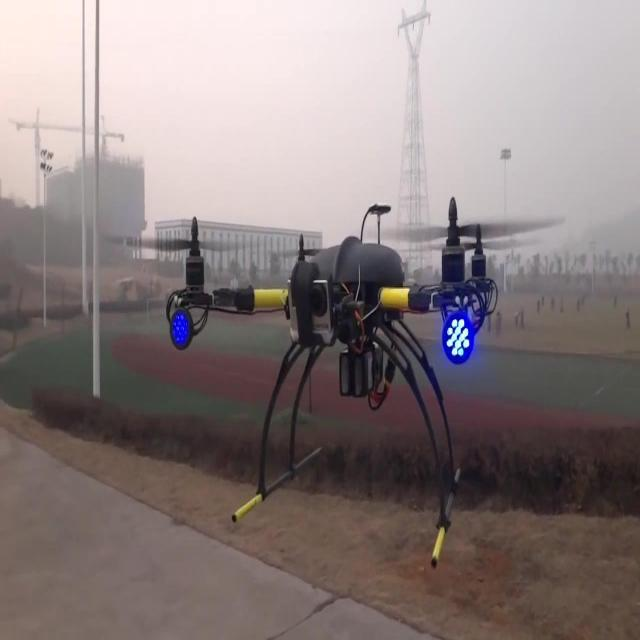drone: (167, 195, 499, 567)
